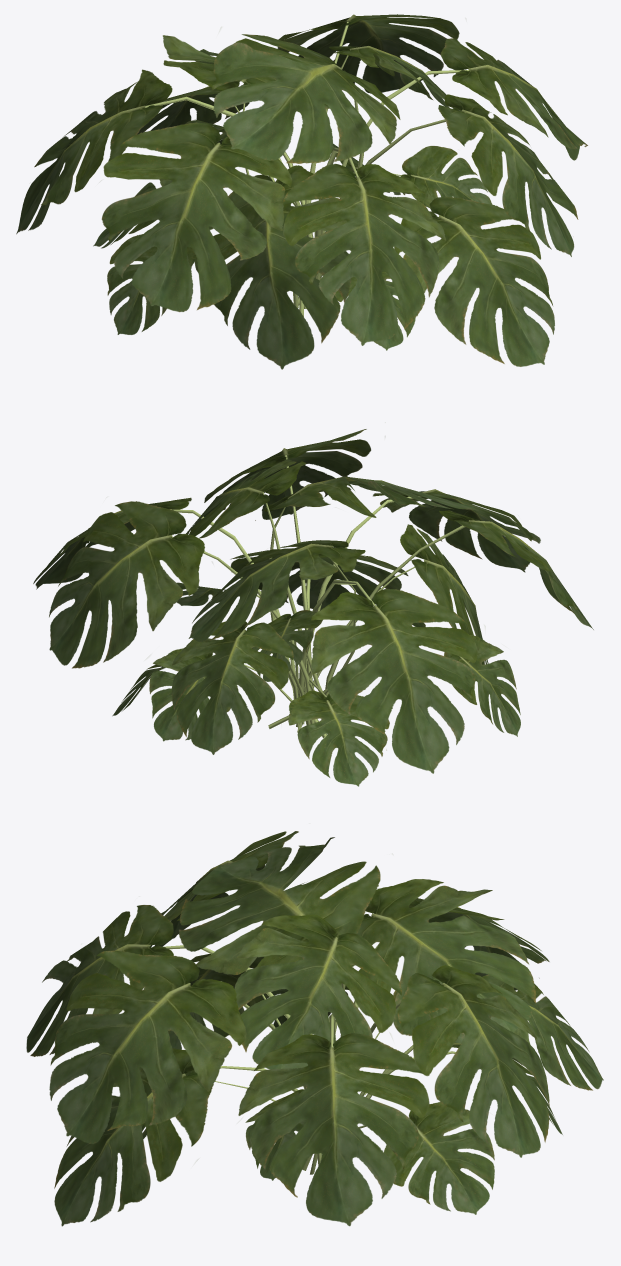
The picture shows the model from 3 angles, top to bottom: view 1: azimuth 30°, elevation 25°; view 2: azimuth 150°, elevation 25°; view 3: azimuth 270°, elevation 25°; orthographic projection. The views are drawn at different scales.
Visible parts, largest first — view 1: leaves_tropical_plant_0, trunk_tropical_plant_0; view 2: leaves_tropical_plant_0, trunk_tropical_plant_0; view 3: leaves_tropical_plant_0, trunk_tropical_plant_0.
Part boxes in pixels (left/top/right/bottom): leaves_tropical_plant_0: left=16, top=14, right=587, bottom=369; trunk_tropical_plant_0: left=145, top=22, right=469, bottom=317; leaves_tropical_plant_0: left=33, top=429, right=593, bottom=786; trunk_tropical_plant_0: left=170, top=455, right=465, bottom=738; leaves_tropical_plant_0: left=26, top=831, right=603, bottom=1226; trunk_tropical_plant_0: left=163, top=937, right=455, bottom=1174.
Bounding box in the file's own units: 193 × 99.01 × 170.
1 material, 1 textured.
